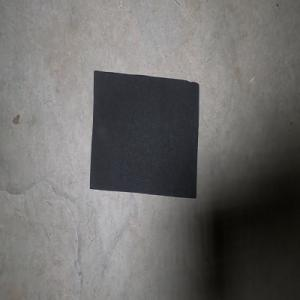PaintChip: (89, 70, 199, 199)
